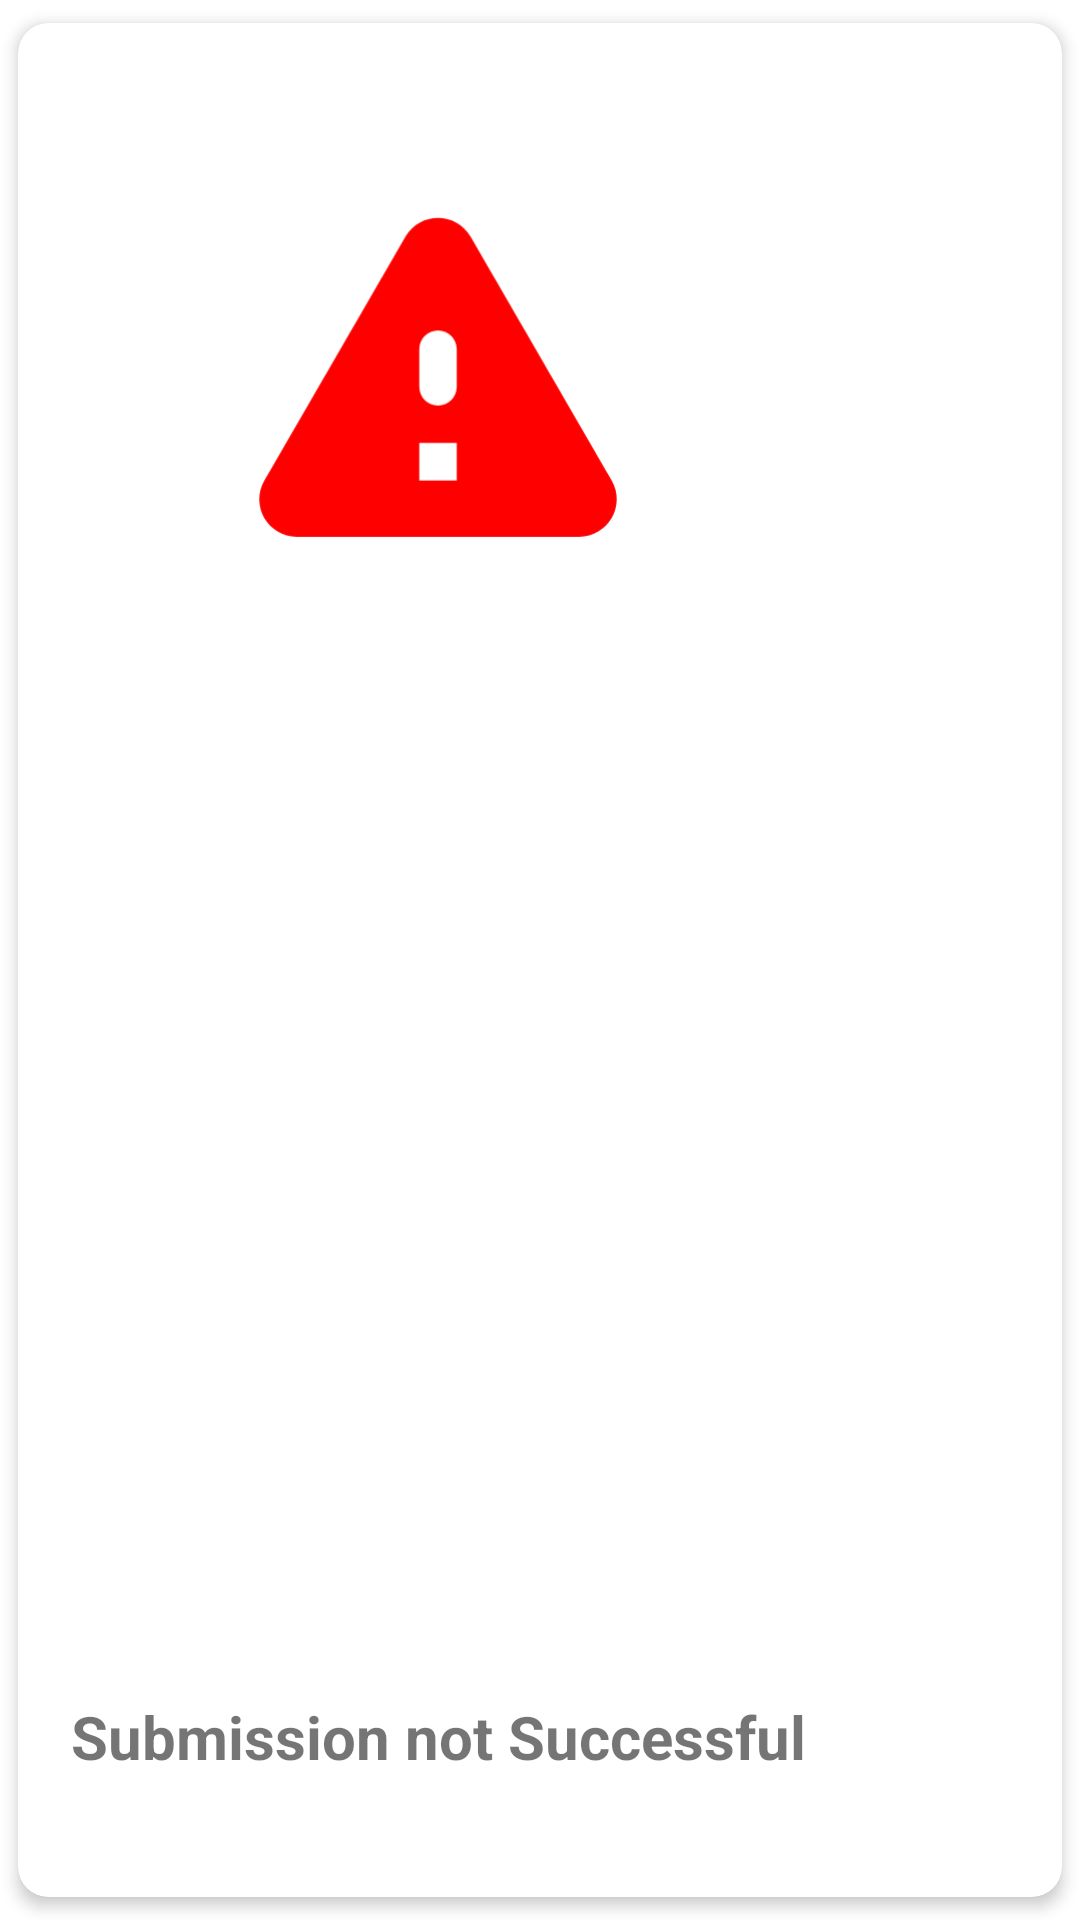

Screen size 1080px x 1920px. Icon name, then its box in pixels as (x1, y1, x2, y2):
warning: (259, 217, 617, 537)
